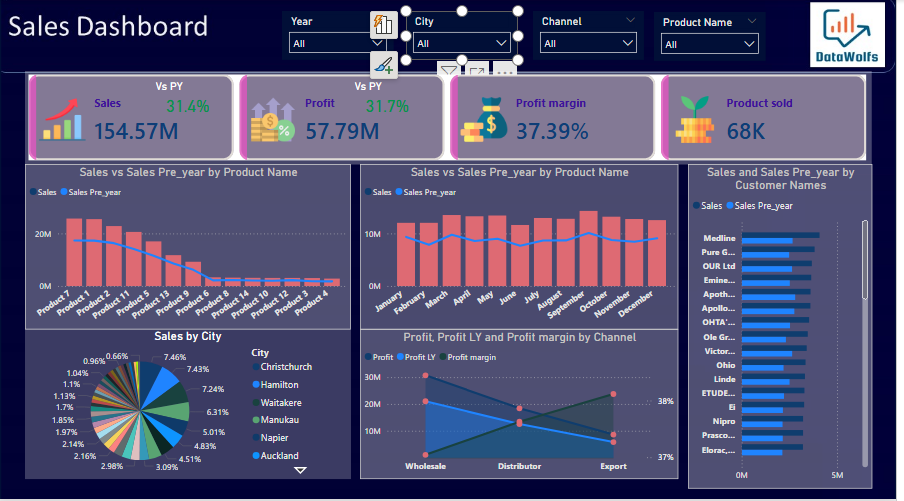

The page's visual inventory and layout, read from the dashboard file:
{"tool":"powerbi","page":{"name":"Sales Dashboard","canvas":[1285,715],"ordinal":0},"visuals":[{"type":"slicer","fields":{"Values":["DateTable.Year"]},"box":[404.8,15.1,160,70],"z":0},{"type":"slicer","fields":{"Values":["Regions_Table.City"]},"box":[582.9,15.7,160,70],"z":1000},{"type":"slicer","fields":{"Values":["Products_Data.Product Name"]},"box":[939,16.8,160,70],"z":2000},{"type":"lineClusteredColumnComboChart","title":"Sales vs Sales Pre_year by Product Name","fields":{"Y":["Measure Table.Sales"],"Category":["Products_Data.Product Name"],"Y2":["Measure Table.Sales Pre_year"]},"box":[37.7,235.1,466.6,236.9],"z":3000},{"type":"lineClusteredColumnComboChart","title":"Sales vs Sales Pre_year by Product Name","fields":{"Y":["Measure Table.Sales"],"Y2":["Measure Table.Sales Pre_year"],"Category":["Sales_Data.Ship Date.Variation.Date Hierarchy.Month"]},"box":[516.9,235.1,455.9,236.9],"z":4000},{"type":"pieChart","title":"Sales by City","fields":{"Category":["Regions_Table.City"],"Y":["Sum(Sales_Data.Sales)"]},"box":[37.7,472,466.6,215.4],"z":5000},{"type":"areaChart","fields":{"Category":["Sales_Data.Channel"],"Y":["Measure Table.Profit","Measure Table.Profit LY"],"Y2":["Measure Table.Profit margin"]},"box":[516.9,472,455.9,215.4],"z":6000},{"type":"slicer","fields":{"Values":["Sales_Data.Channel"]},"box":[765.1,16.1,159.1,69.7],"z":7000},{"type":"clusteredBarChart","fields":{"Y":["Measure Table.Sales","Measure Table.Sales Pre_year"],"Category":["Customer_Data.Customer Names"]},"box":[987.1,235.1,263.8,464.8],"z":8000},{"type":"cardVisual","fields":{"Data":["Measure Table.Sales","Measure Table.Profit","Measure Table.Profit margin","Measure Table.Product sold"]},"box":[36.6,101.3,1213.2,133.7],"z":9000},{"type":"card","title":"Vs PY","fields":{"Values":["Measure Table.Sales vs sales pre_year %"]},"box":[219.2,114.6,101.7,55.9],"z":10000},{"type":"card","title":"Vs PY","fields":{"Values":["Measure Table.Profit vs Profit LY %"]},"box":[504.3,114.6,103.1,55.9],"z":11000}]}

Visuals, with their boxes in screenshot pixels (x1, y1, x2, y2), scaled from the page's 1285x715 canvas onto the 904x501 screenshot:
slicer - DateTable.Year: 285,11,397,60
slicer - Regions_Table.City: 410,11,523,60
slicer - Products_Data.Product Name: 661,12,773,61
"Sales vs Sales Pre_year by Product Name" lineClusteredColumnComboChart: 27,165,355,331
"Sales vs Sales Pre_year by Product Name" lineClusteredColumnComboChart: 364,165,684,331
"Sales by City" pieChart: 27,331,355,482
areaChart - Sales_Data.Channel x Measure Table.Profit: 364,331,684,482
slicer - Sales_Data.Channel: 538,11,650,60
clusteredBarChart - Measure Table.Sales x Measure Table.Sales Pre_year: 694,165,880,490
cardVisual - Measure Table.Sales x Measure Table.Profit: 26,71,879,165
"Vs PY" card: 154,80,226,119
"Vs PY" card: 355,80,427,119
